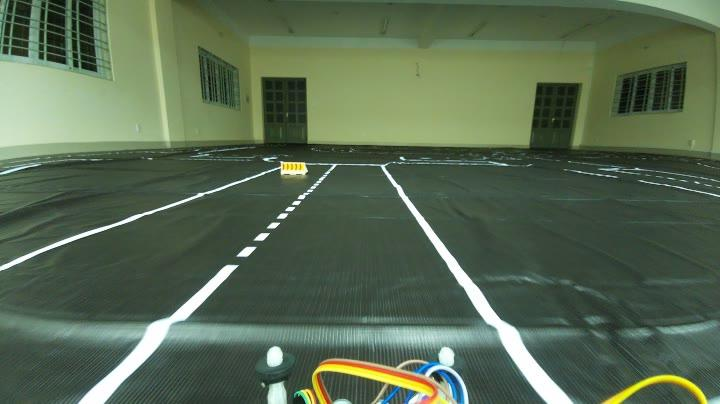roadblock: (276, 155, 308, 176)
